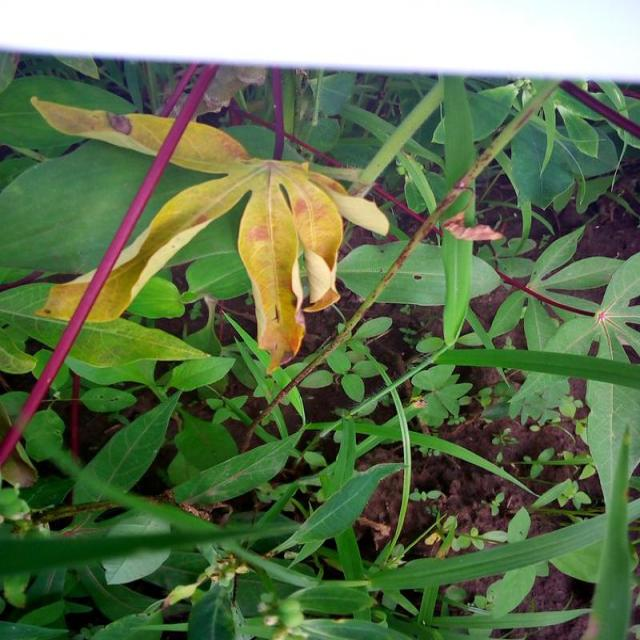cassava leaf: (23, 95, 390, 375)
